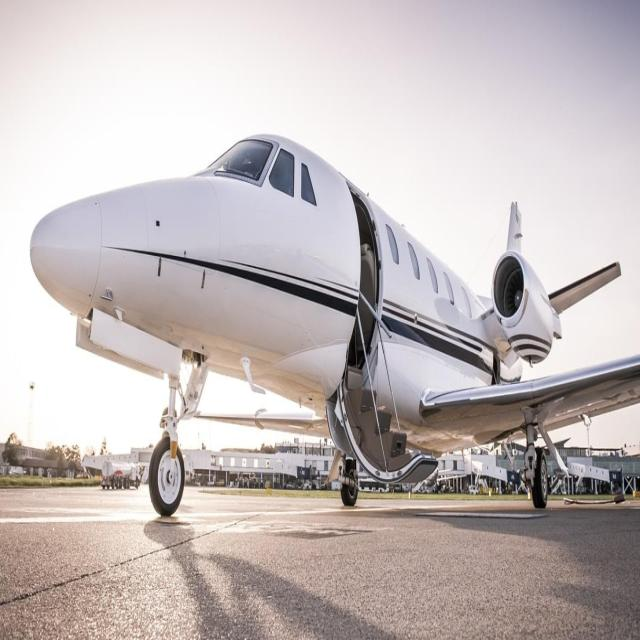jet: (4, 112, 640, 640)
